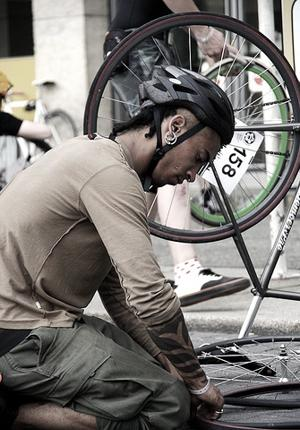person: (2, 66, 235, 430)
